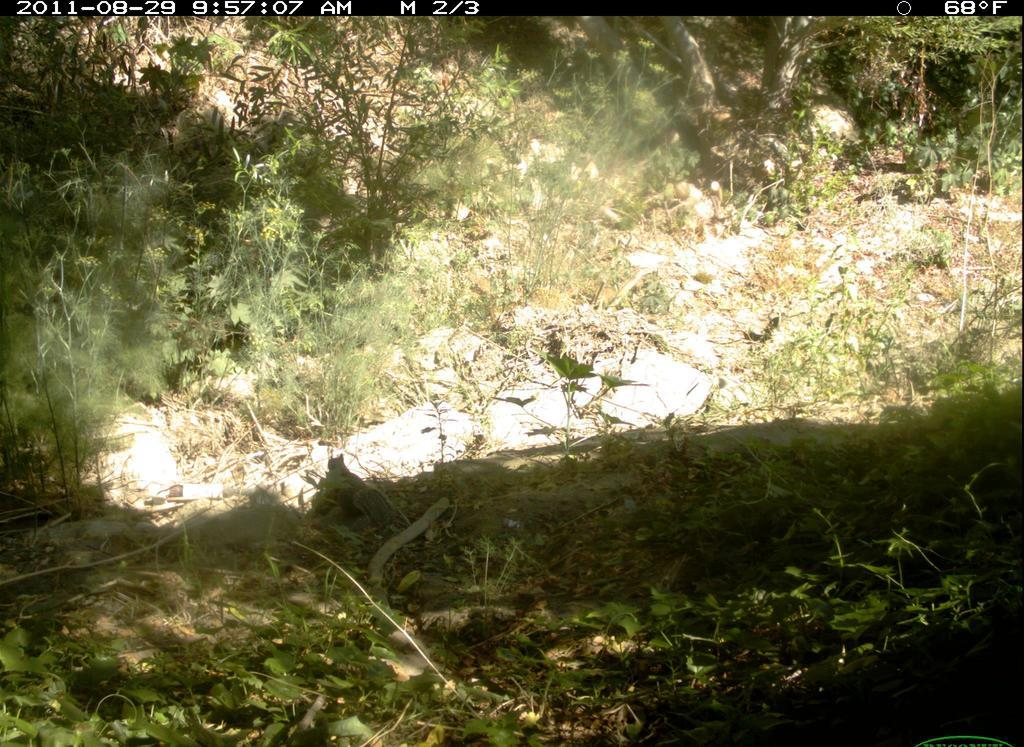squirrel: (323, 449, 415, 546)
